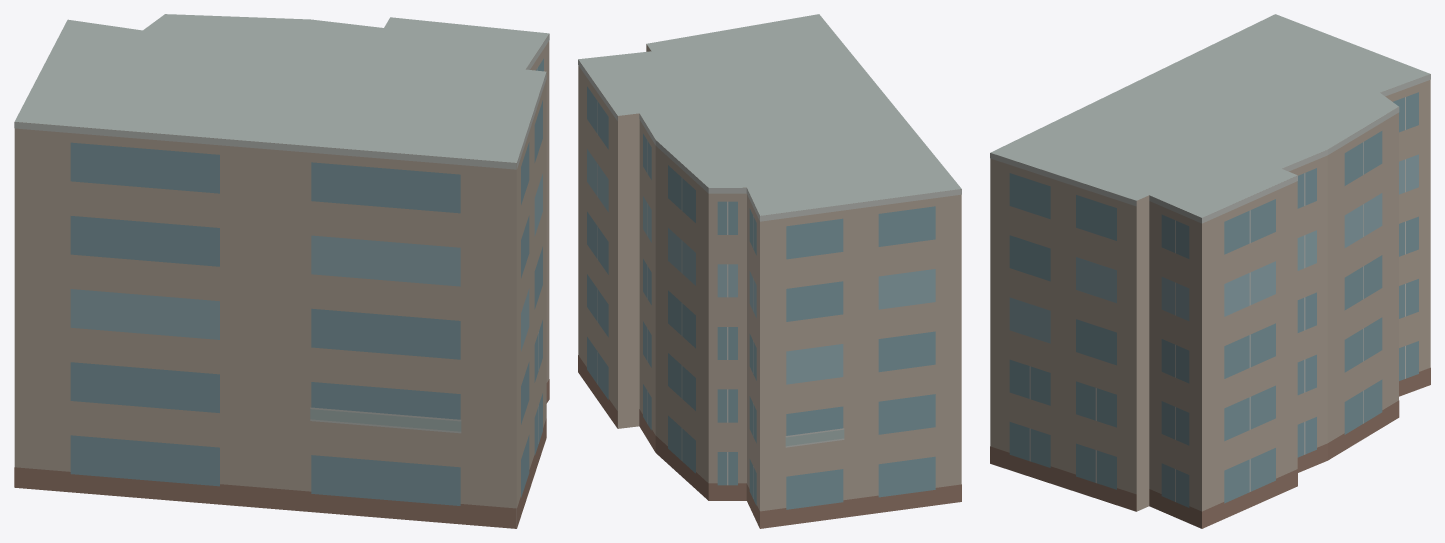
File: survey-upis-32947940.glb
3 views of the same model, side by side, from view 1: azimuth 30°, elevation 25°; view 2: azimuth 150°, elevation 25°; view 3: azimuth 270°, elevation 25° (orthographic). The views are drawn at different scales.
Visible parts, largest first — view 1: survey-upis-32947940.tmp; view 2: survey-upis-32947940.tmp; view 3: survey-upis-32947940.tmp.
Part boxes in pixels (x1,y1,x2,y2): survey-upis-32947940.tmp: [14, 14, 549, 528]; survey-upis-32947940.tmp: [578, 14, 961, 528]; survey-upis-32947940.tmp: [990, 14, 1430, 528].
Bounding box in the file's own units: 18.71 × 13.3 × 17.09.
